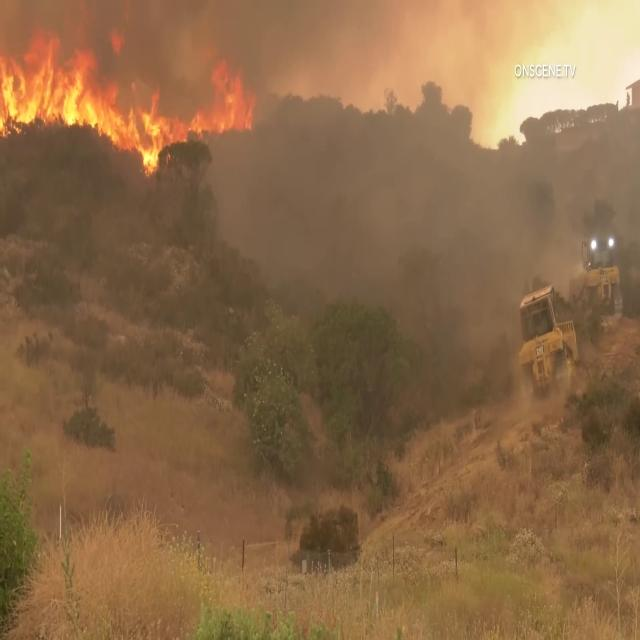fire: (131, 73, 242, 153), (71, 46, 130, 151), (5, 57, 73, 145)
